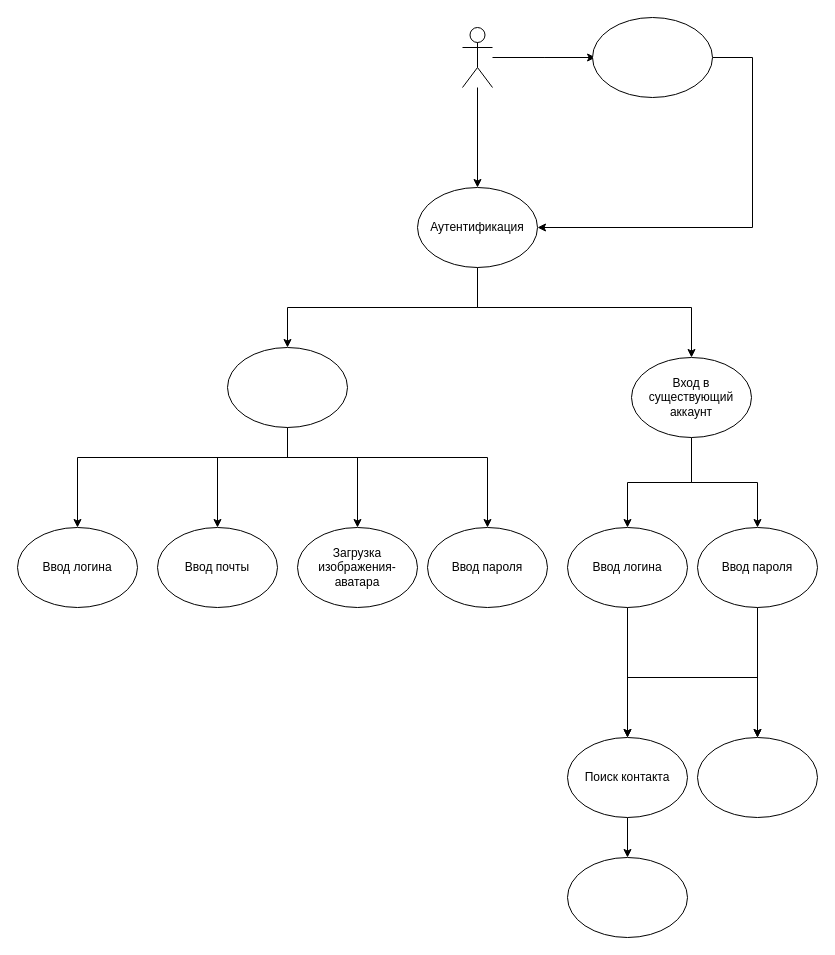
Image size: 835x955. Some labels were removed from this diagram. The shapes that lost their labels are listed below. From the top down, each one's box as (x1, y1, x2, y2) in pixels, then its label:
(462, 26, 492, 88): Пользователь
(592, 16, 712, 98): Смена темы
(226, 346, 348, 428): Создать аккаунт
(696, 736, 818, 818): Получение писем
(566, 856, 688, 938): Написание и отправка сообщения
